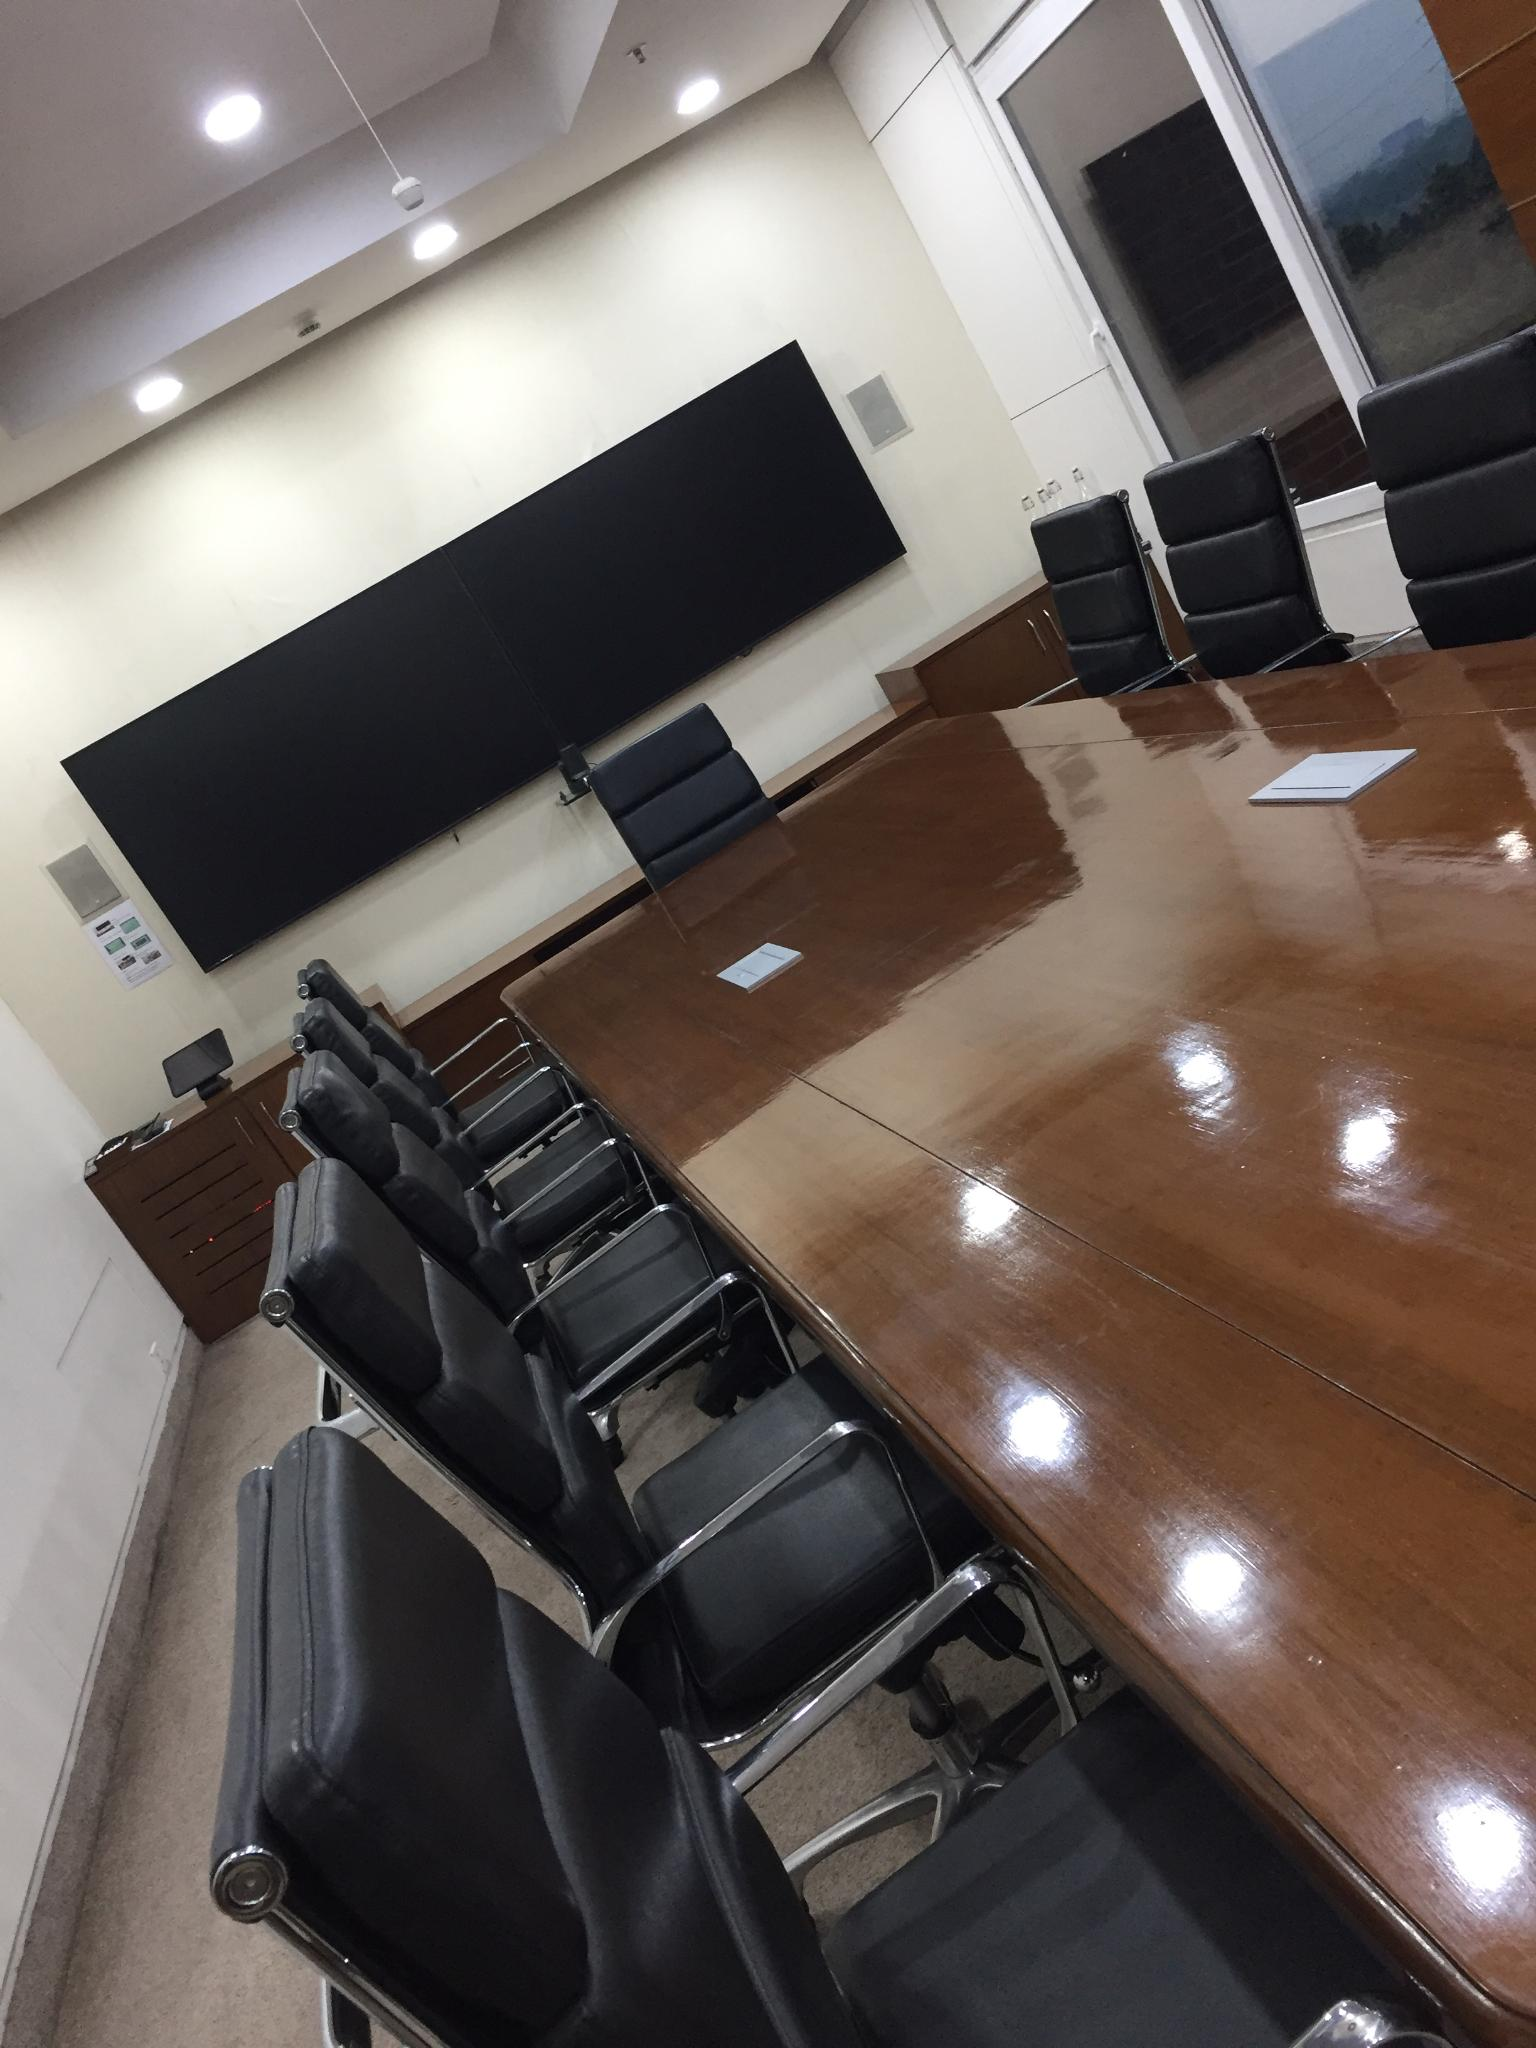chair: (208, 1421, 1452, 2045), (258, 1147, 1086, 1890), (279, 1045, 794, 1464), (1355, 324, 1534, 650), (298, 998, 587, 1158), (594, 689, 803, 908), (1142, 437, 1320, 692), (1028, 489, 1197, 701), (302, 964, 532, 1116)
